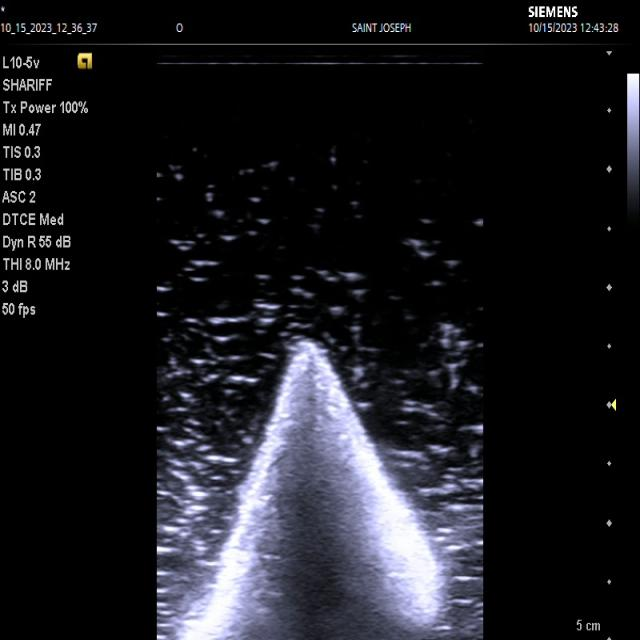tissue: (178, 337, 447, 640)
